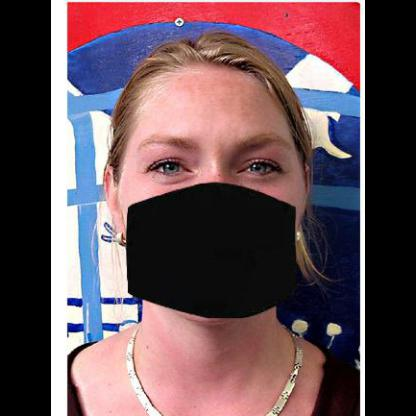Fabric/Cloth Mask: (118, 111, 300, 311)
